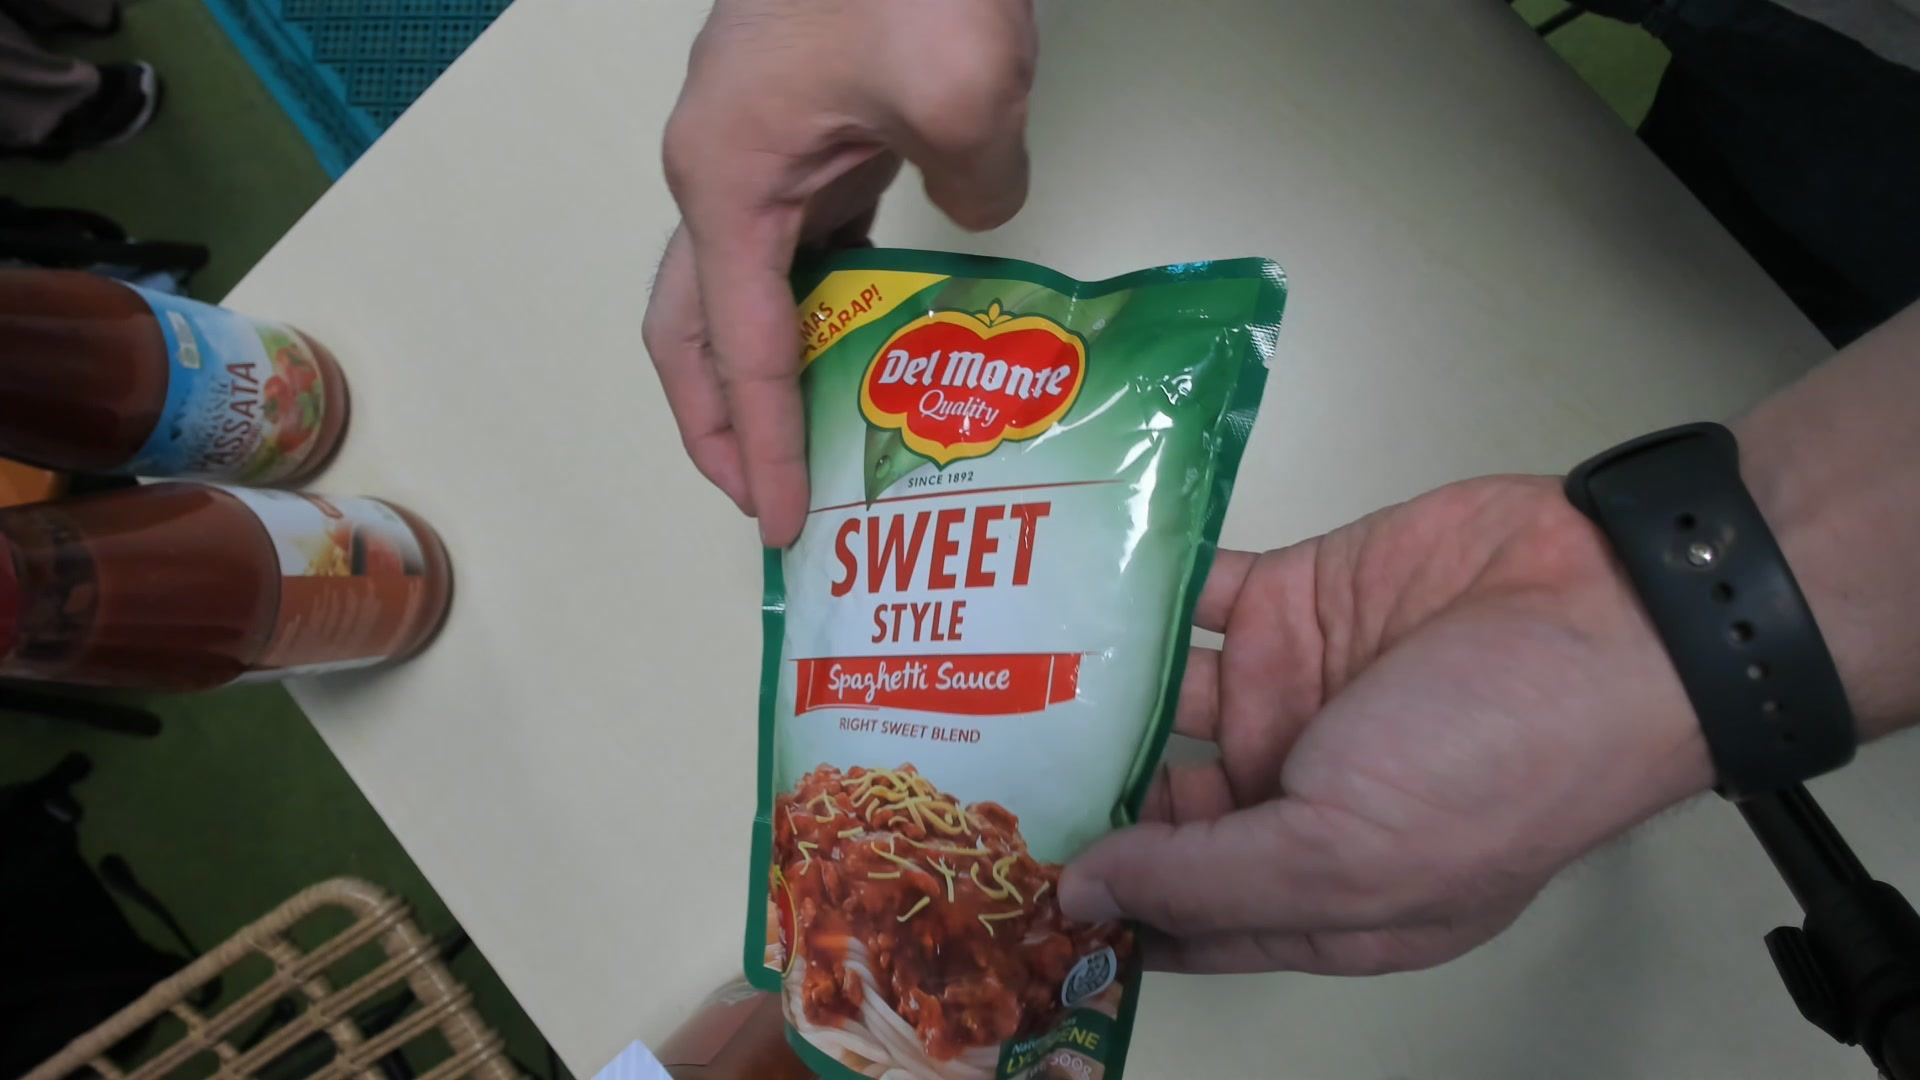PastaSauce_500-599g_Halal_NonHealthy: (756, 244, 1232, 1080)
